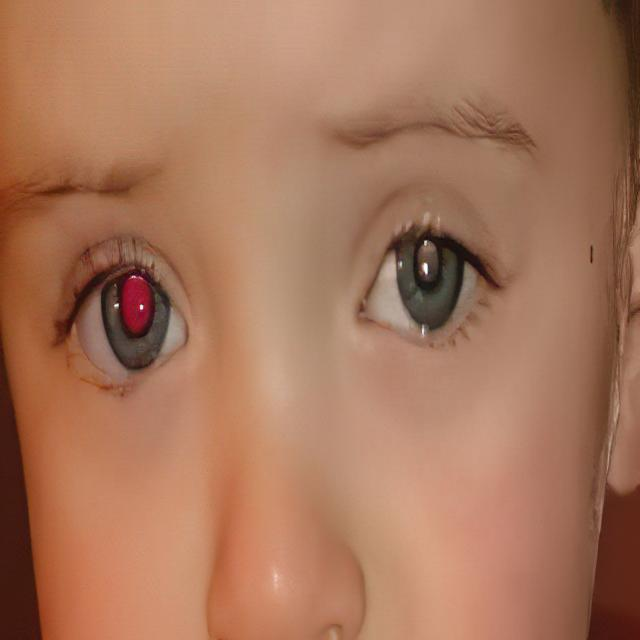reflexo-alterado: (342, 193, 513, 383)
reflexo-normal: (60, 244, 191, 403)
